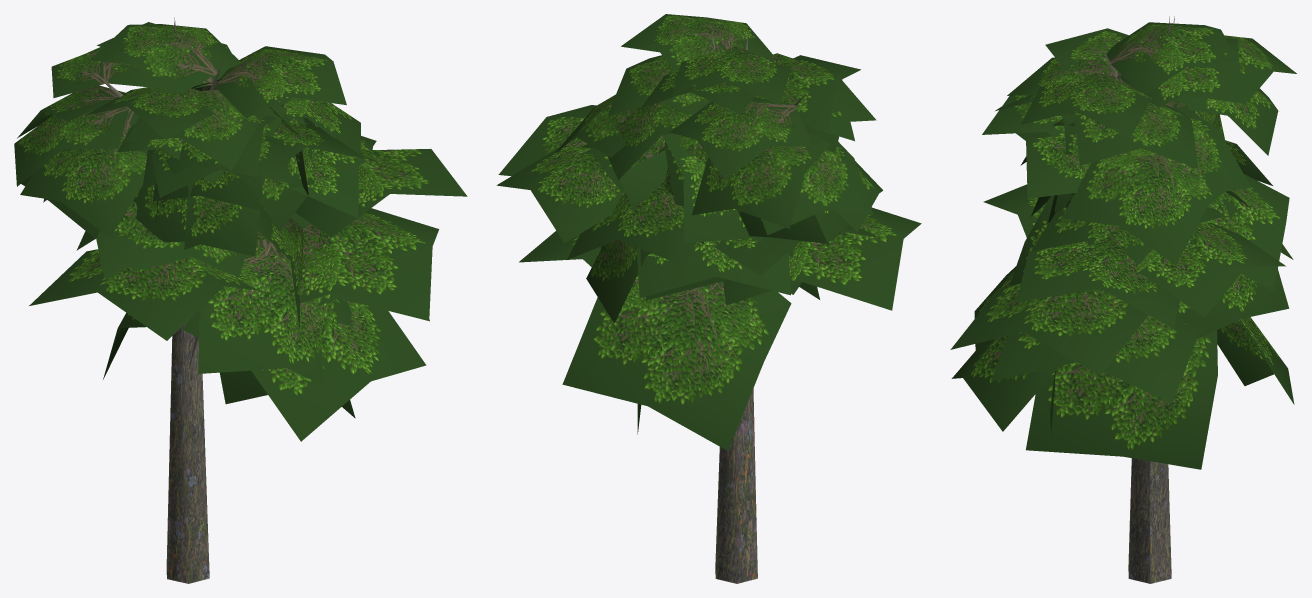
Rendered from bigtreeC.obj.
3 views of the same model, side by side, from view 1: azimuth 30°, elevation 25°; view 2: azimuth 150°, elevation 25°; view 3: azimuth 270°, elevation 25° (orthographic).
Size of the model in its own units: 10.88 by 14.83 by 8.39.
